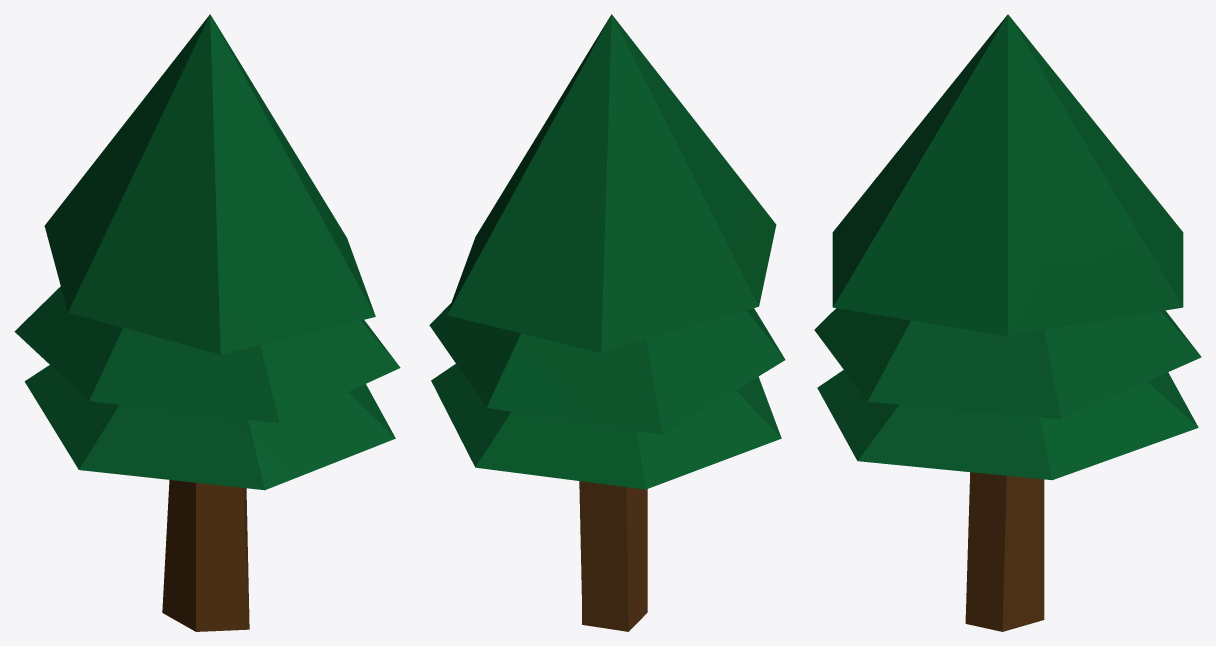
Rendered from spruce.fbx.
3 views of the same model, side by side, from view 1: azimuth 30°, elevation 25°; view 2: azimuth 150°, elevation 25°; view 3: azimuth 270°, elevation 25° (orthographic).
Parts seen in each view (by area): view 1: pCone3, pCone2, pCone1, pCylinder1; view 2: pCone3, pCone2, pCone1, pCylinder1; view 3: pCone3, pCone2, pCone1, pCylinder1.
Part boxes in pixels (<box>): pCone3: <box>44,14,375,354</box>; pCone2: <box>14,286,400,423</box>; pCone1: <box>24,365,395,490</box>; pCylinder1: <box>162,480,249,631</box>; pCone3: <box>447,14,776,352</box>; pCone2: <box>429,303,785,434</box>; pCone1: <box>431,364,781,489</box>; pCylinder1: <box>579,481,647,631</box>; pCone3: <box>832,14,1183,336</box>; pCone2: <box>814,308,1201,419</box>; pCone1: <box>817,370,1198,480</box>; pCylinder1: <box>965,472,1044,631</box>.
Bounding box in the file's own units: 2.11 × 3.93 × 2.29.
